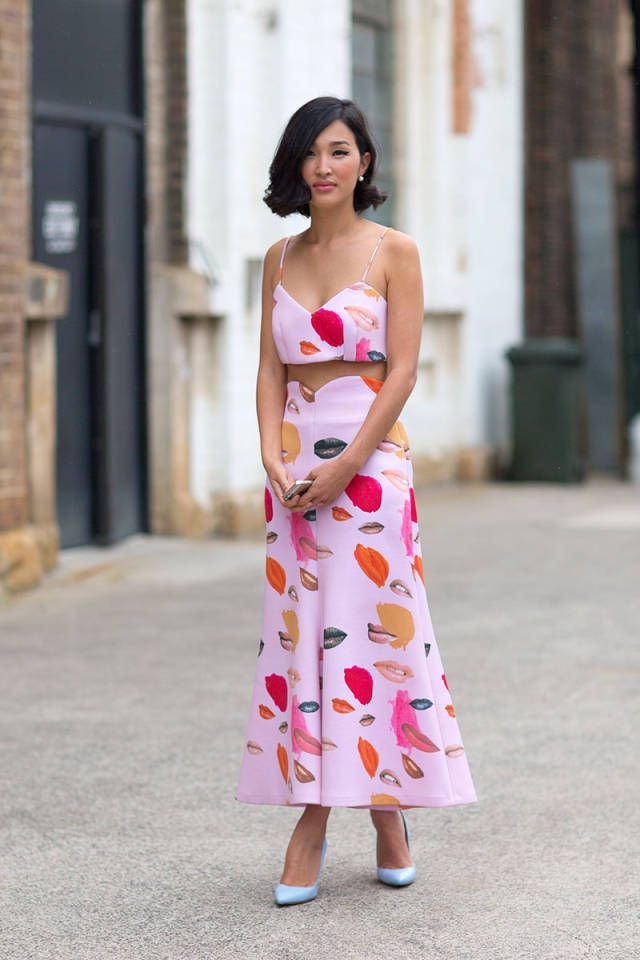Person: (222, 84, 495, 911)
